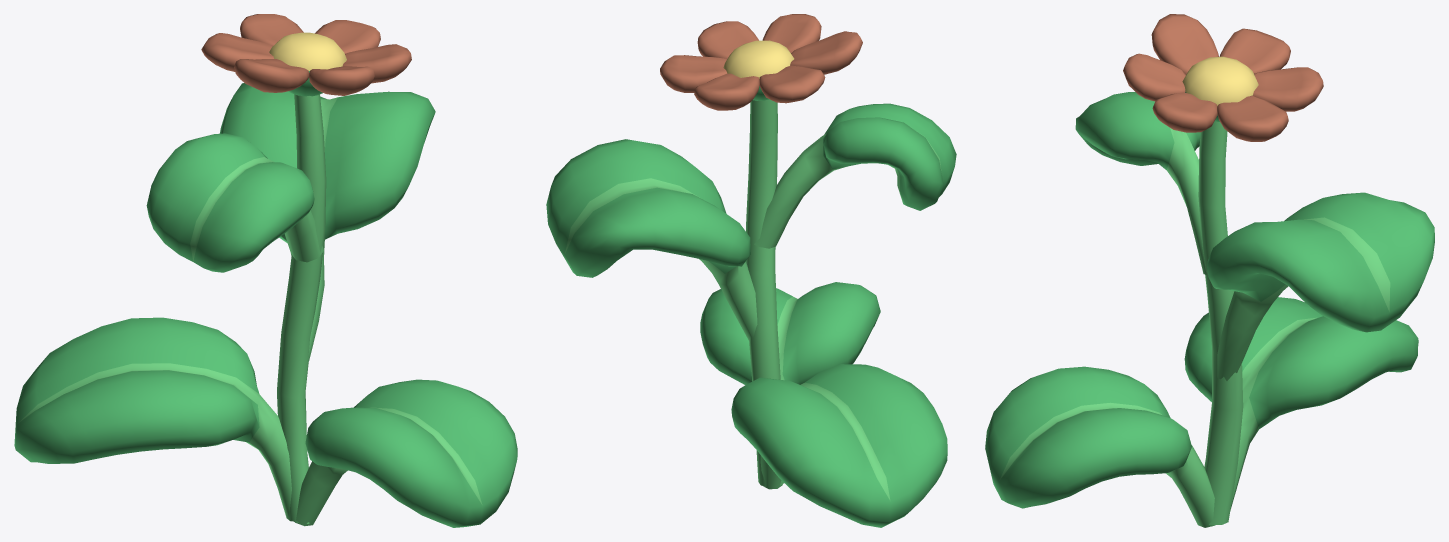
Rendered from Flora_A_01.fbx.
The picture shows the model from 3 angles, left to right: view 1: azimuth 30°, elevation 25°; view 2: azimuth 150°, elevation 25°; view 3: azimuth 270°, elevation 25°; orthographic projection. The views are drawn at different scales.
Visible parts, largest first — view 1: Flora_A_01_LOD0; view 2: Flora_A_01_LOD0; view 3: Flora_A_01_LOD0.
Boxes of the visible parts, left/top/right/bottom form: Flora_A_01_LOD0: left=14, top=14, right=517, bottom=527; Flora_A_01_LOD0: left=546, top=14, right=956, bottom=527; Flora_A_01_LOD0: left=985, top=14, right=1434, bottom=527.
Size of what is drawn, in the model's own units: 442 by 507 by 436.
